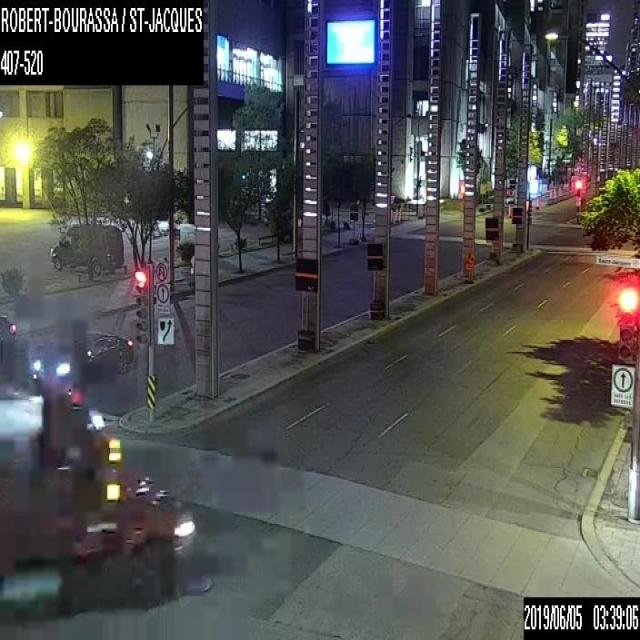construction: (462, 251, 477, 281)
vehicle: (0, 391, 201, 612), (24, 326, 135, 392), (49, 224, 122, 267)
